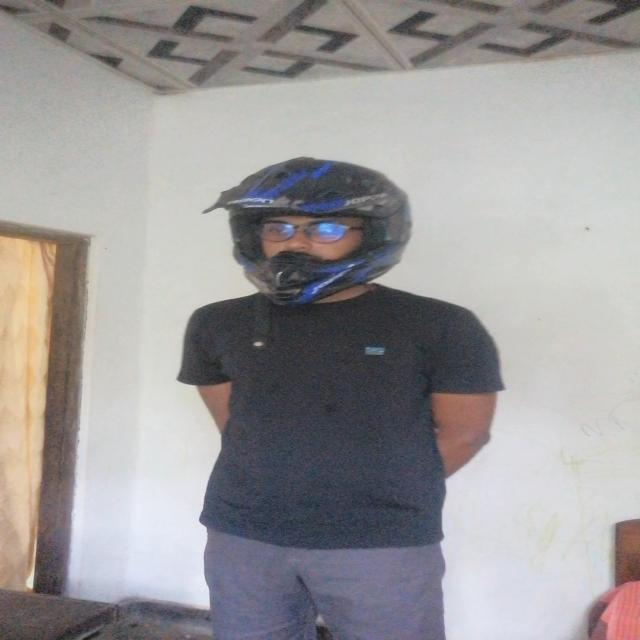Helmet_Wearer: (196, 147, 466, 311)
